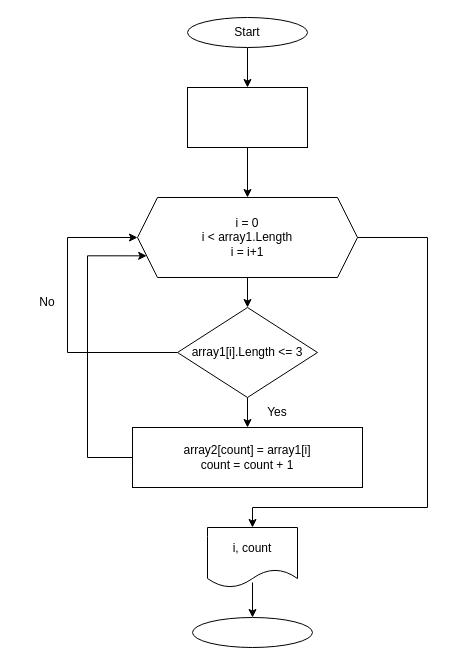
Some shapes in this 453 by 665 pixel diagram are drawn without their labels. The box of each missing label's shape, as (x1, y1, x2, y2) in pixels:
array1 array2 count = 0: (186, 86, 308, 148)
End: (192, 616, 312, 648)
